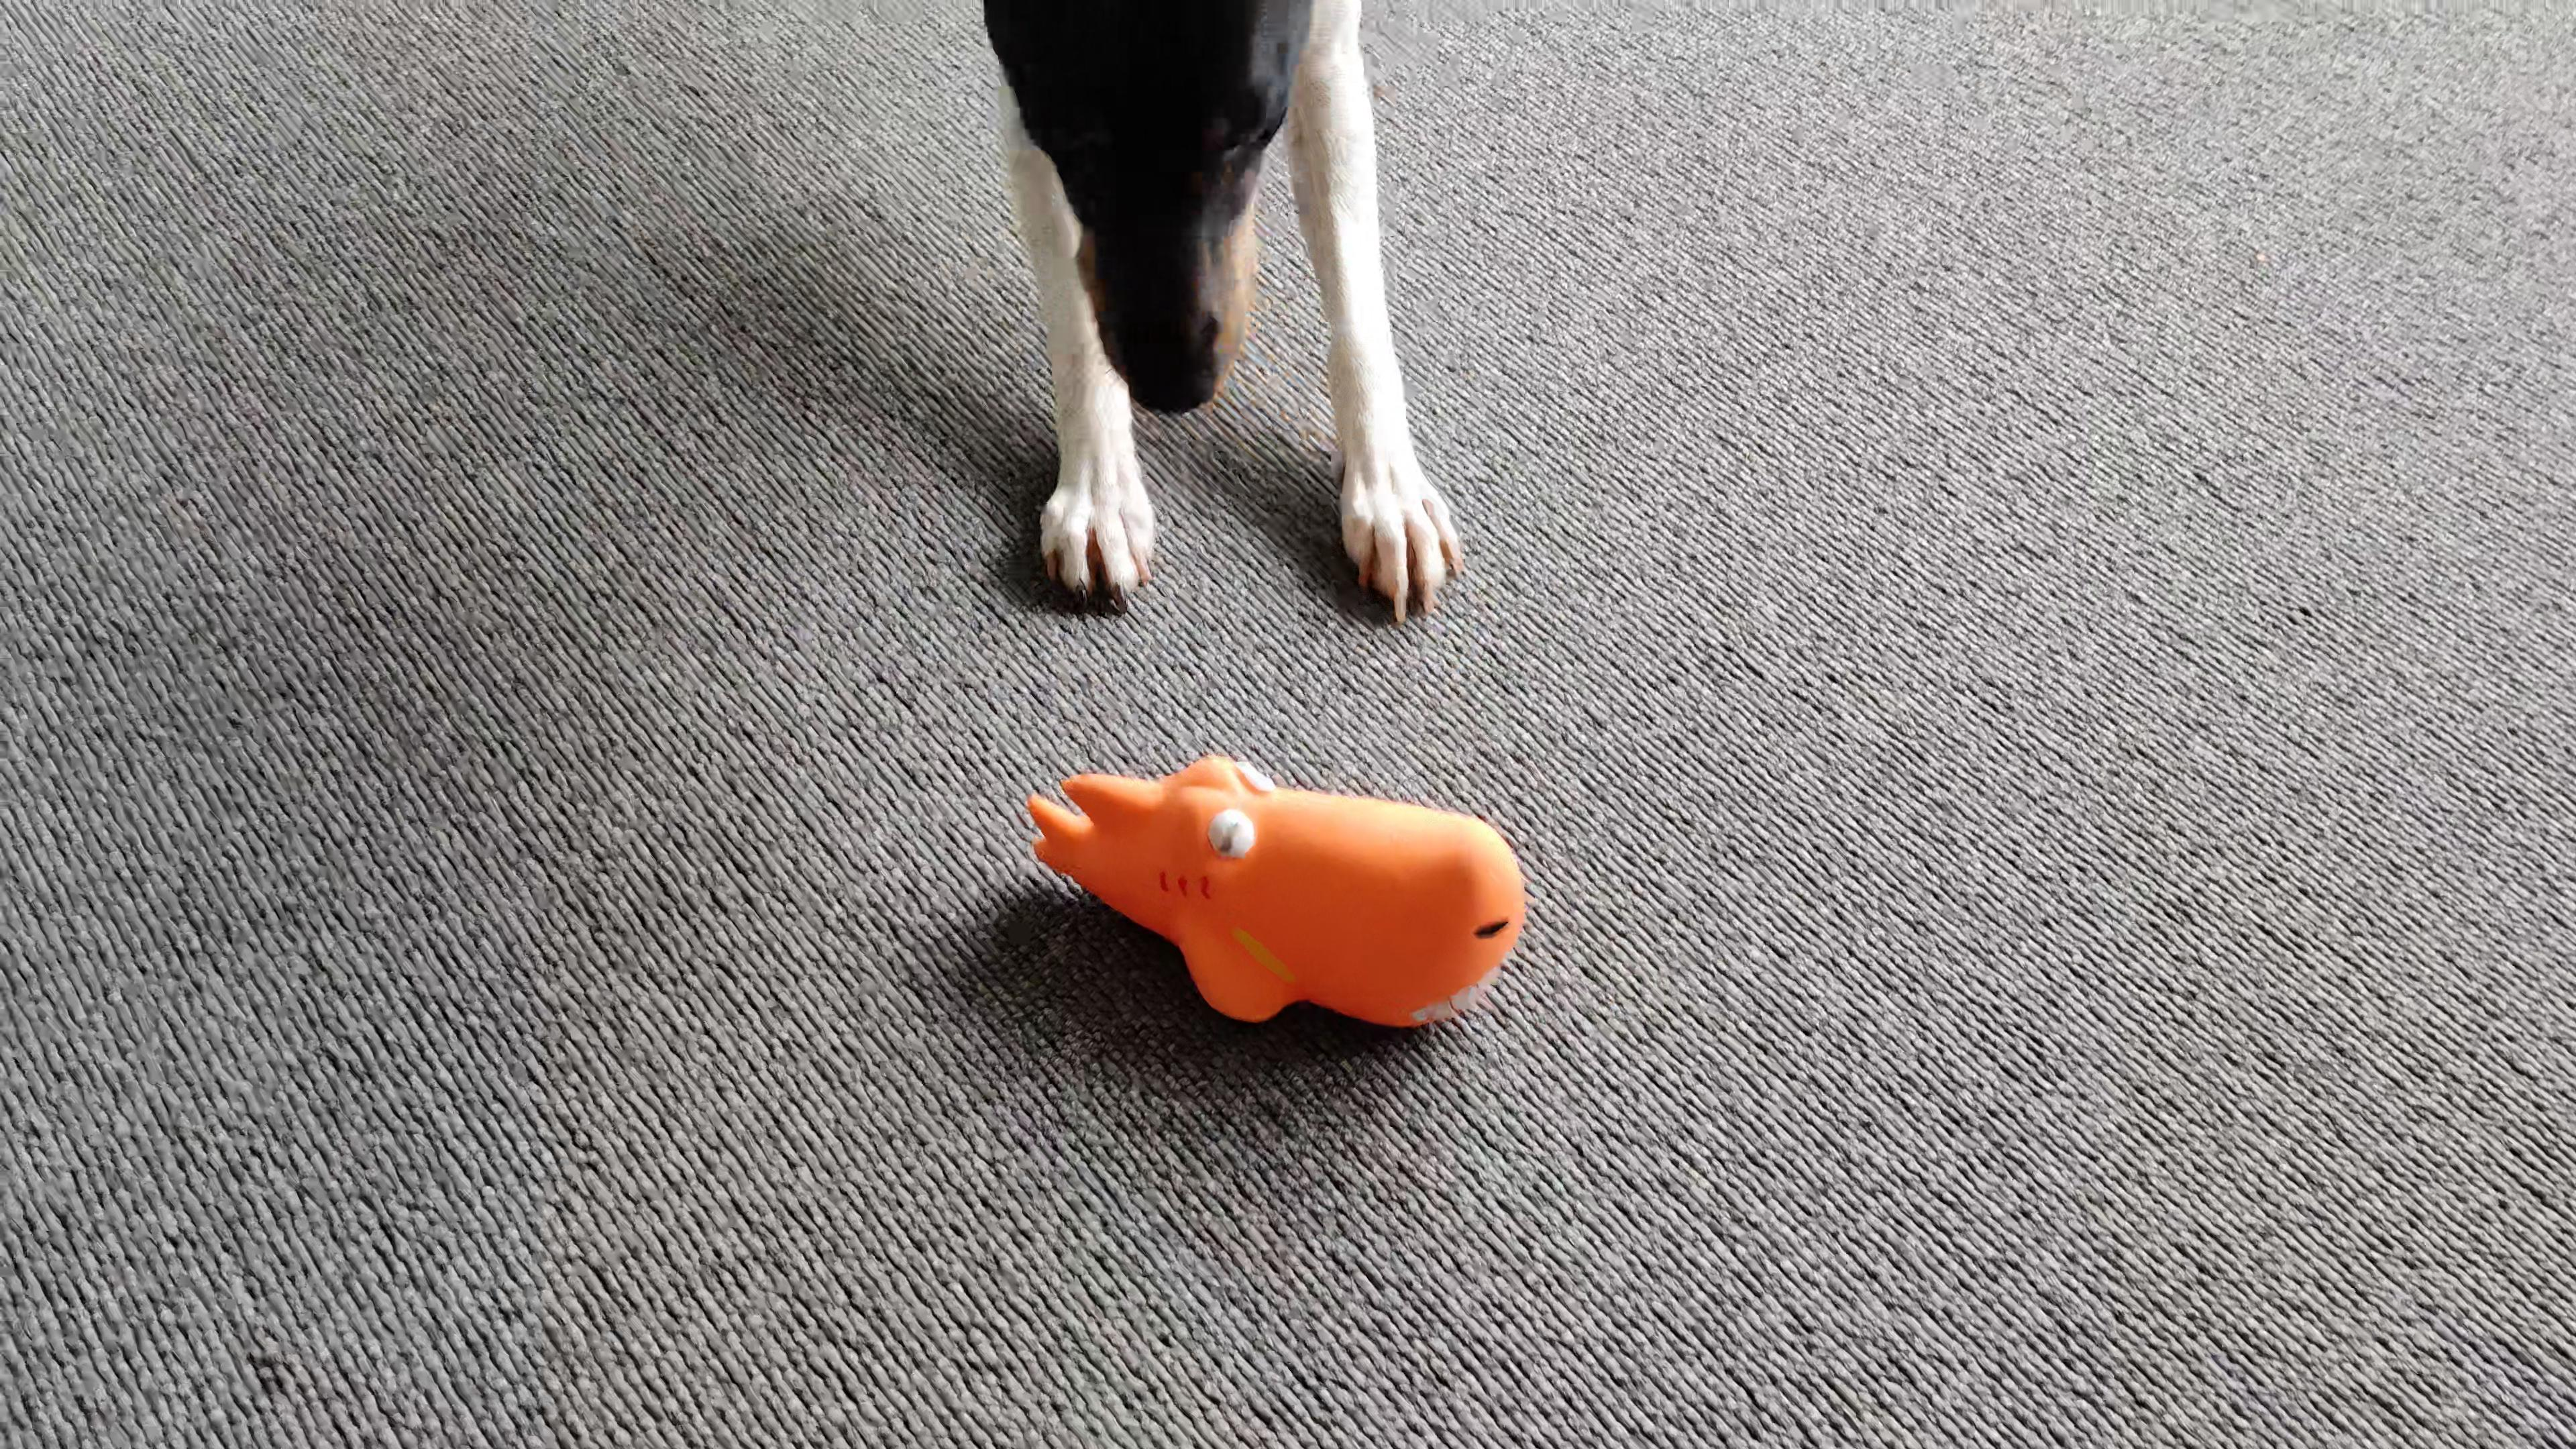Dog: (964, 0, 1477, 623)
